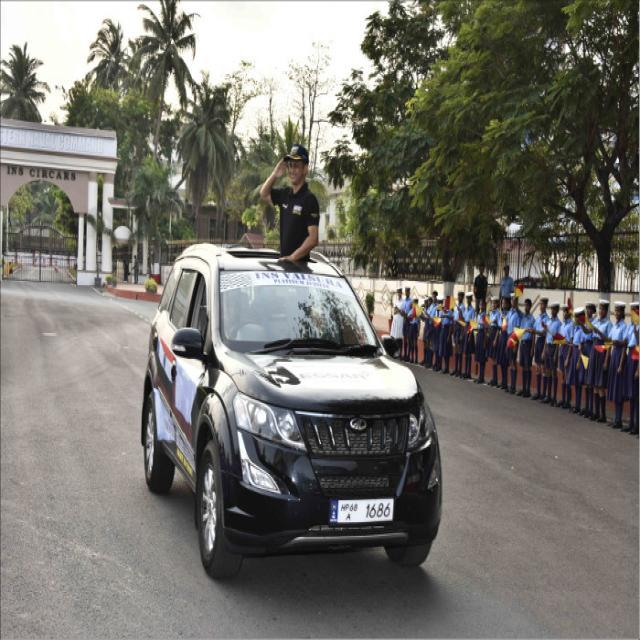plate: (328, 496, 394, 524)
